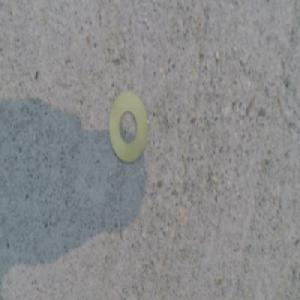Washer: (107, 86, 148, 162)
